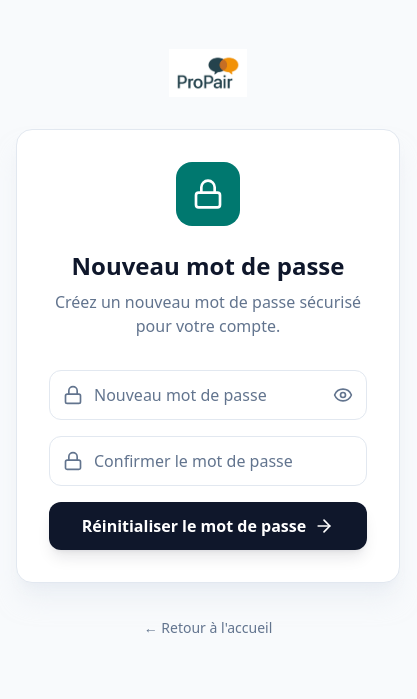
Scenario: UpdatePassword › with valid reset token › password too short shows error
The image size is (417, 699).
Type "short" into the password field labelled "Nouveau mot de passe". click: point(208, 395)
box: [49, 370, 367, 420]
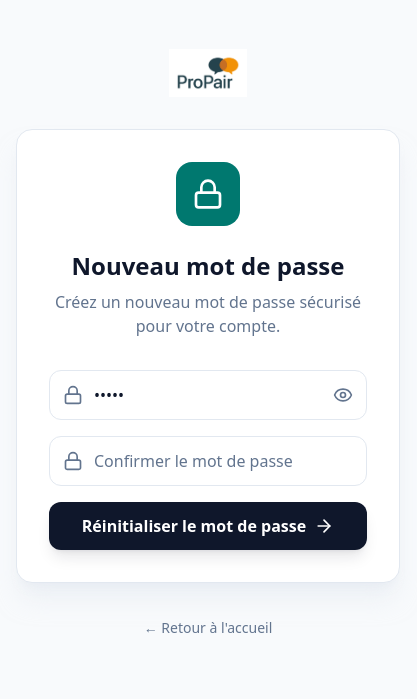
Type "short" into the password field labelled "Confirmer le mot de passe". click: point(208, 461)
box: [49, 436, 367, 486]
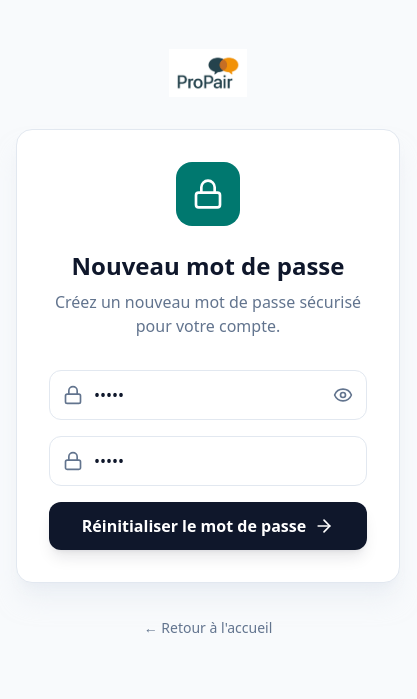
Submit the text "Réinitialiser le mot de passe", box [49, 370, 367, 550]
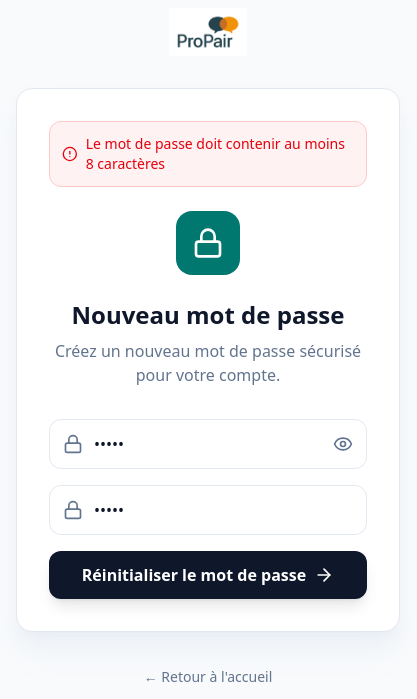
Check: the text "Le mot de passe doit contenir au moins 8 caractères" is shown, box [49, 121, 367, 187]
